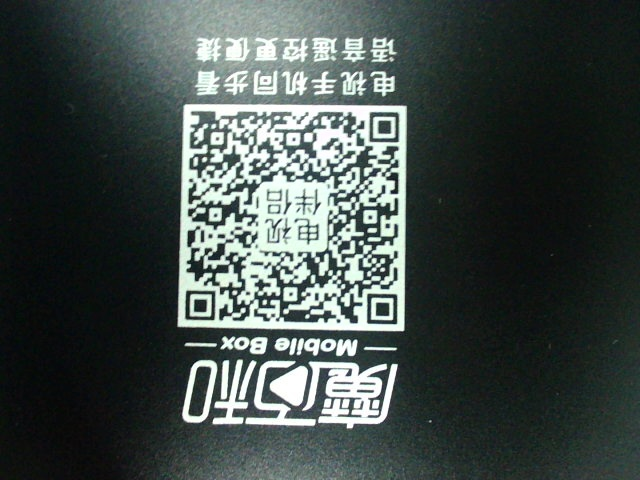AZ_MobileBox: (159, 33, 416, 427)
